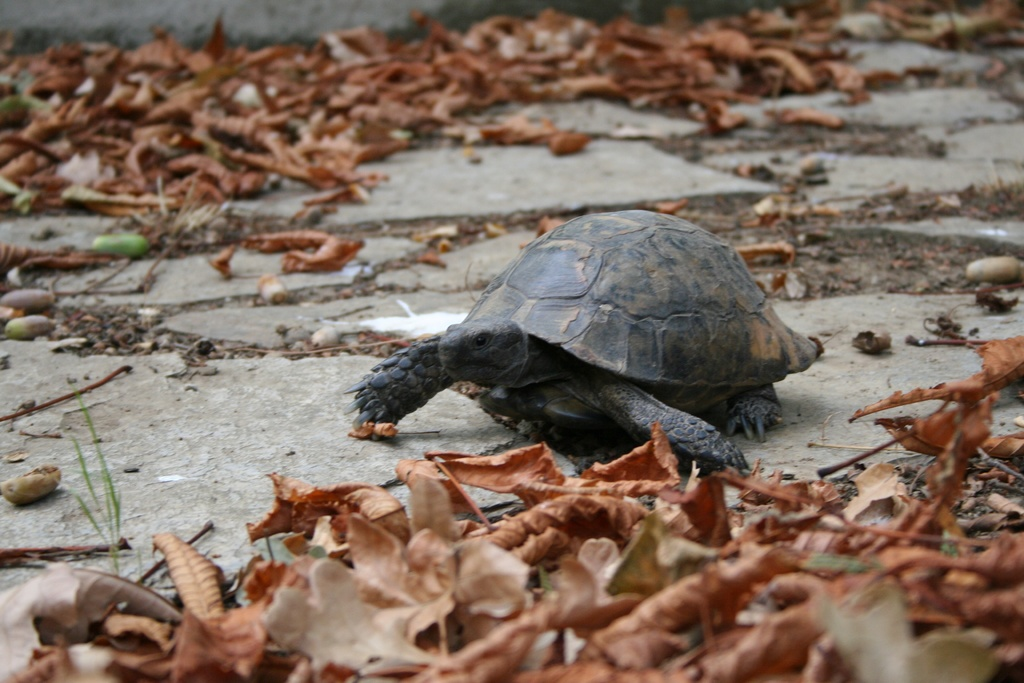Sea turtles: (334, 199, 818, 479)
